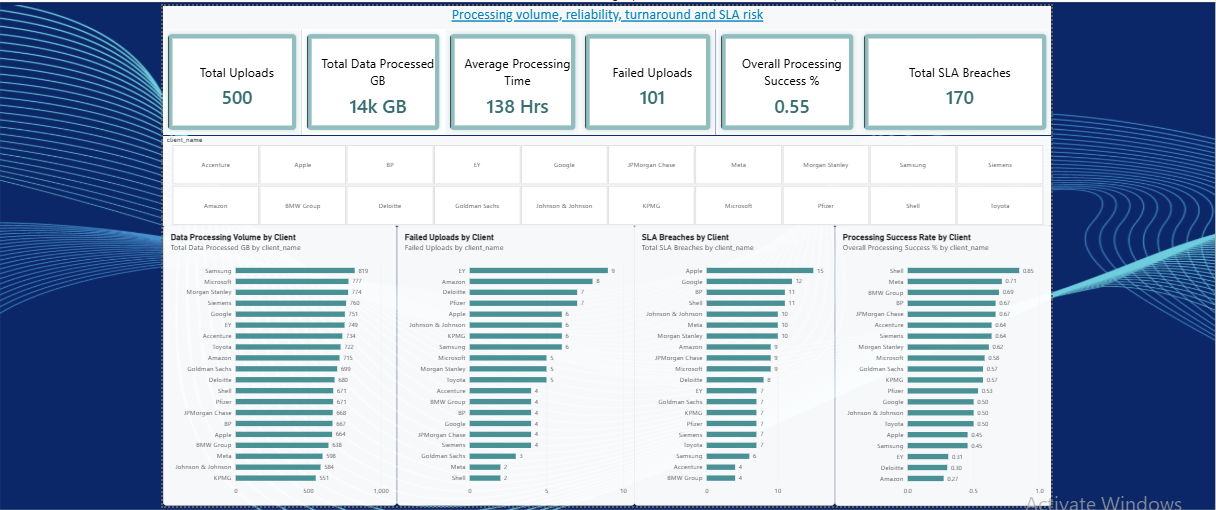

This screenshot's page, from the dashboard's own definition file:
{"tool":"powerbi","page":{"name":"Operations & Processing","canvas":[1920,1080],"ordinal":2},"visuals":[{"type":"cardVisual","fields":{"Data":["Processing Performance.Total Uploads"]},"box":[0,50.7,299.8,229.3],"z":0},{"type":"cardVisual","fields":{"Data":["Processing Performance.Total Data Processed GB"]},"box":[299.8,50.7,308.6,229.3],"z":1000},{"type":"cardVisual","fields":{"Data":["Processing Performance.Average Processing Time"]},"box":[608.4,50.7,293.2,229.3],"z":2000},{"type":"cardVisual","fields":{"Data":["Processing Performance.Failed Uploads"]},"box":[901.6,50.7,293.2,229.3],"z":3000},{"type":"cardVisual","fields":{"Data":["Processing Performance.Overall Processing Success %"]},"box":[1194.8,50.7,308.6,229.3],"z":4000},{"type":"cardVisual","fields":{"Data":["SLA Performance.Total SLA Breaches"]},"box":[1503.4,50.7,416.6,229.3],"z":5000},{"type":"clusteredBarChart","title":"Data Processing Volume by Client","fields":{"Category":["Processing Performance.client_name"],"Y":["Processing Performance.Total Data Processed GB"]},"box":[0,473.9,504.8,606.2],"z":6000},{"type":"clusteredBarChart","title":"Failed Uploads by Client","fields":{"Category":["Processing Performance.client_name"],"Y":["Processing Performance.Failed Uploads"]},"box":[504.8,473.9,513.6,606.2],"z":7000},{"type":"clusteredBarChart","title":"SLA Breaches by Client","fields":{"Category":["SLA Performance.client_name"],"Y":["SLA Performance.Total SLA Breaches"]},"box":[1018.4,473.9,434.3,606.2],"z":8000},{"type":"slicer","fields":{"Values":["Case Summary.client_name"]},"box":[0,280.8,1920.2,194.4],"z":9000},{"type":"clusteredBarChart","title":"Processing Success Rate by Client","fields":{"Category":["Processing Performance.client_name"],"Y":["Processing Performance.Overall Processing Success %"]},"box":[1451.5,473,468.7,607],"z":10000},{"type":"textbox","title":"Processing volume, reliability, turnaround and SLA risk","box":[0,0,1920,50.7],"z":10001}]}

Visuals, with their boxes on the page's 1920x1080 design canvas (x1, y1, x2, y2). These are canvas units, not pixel positions in the 1216x510 screenshot, which may show the page scaled, cropped or inside an application window:
cardVisual - Processing Performance.Total Uploads: bbox=(0, 51, 300, 280)
cardVisual - Processing Performance.Total Data Processed GB: bbox=(300, 51, 608, 280)
cardVisual - Processing Performance.Average Processing Time: bbox=(608, 51, 902, 280)
cardVisual - Processing Performance.Failed Uploads: bbox=(902, 51, 1195, 280)
cardVisual - Processing Performance.Overall Processing Success %: bbox=(1195, 51, 1503, 280)
cardVisual - SLA Performance.Total SLA Breaches: bbox=(1503, 51, 1920, 280)
"Data Processing Volume by Client" clusteredBarChart: bbox=(0, 474, 505, 1080)
"Failed Uploads by Client" clusteredBarChart: bbox=(505, 474, 1018, 1080)
"SLA Breaches by Client" clusteredBarChart: bbox=(1018, 474, 1453, 1080)
slicer - Case Summary.client_name: bbox=(0, 281, 1920, 475)
"Processing Success Rate by Client" clusteredBarChart: bbox=(1452, 473, 1920, 1080)
"Processing volume, reliability, turnaround and SLA risk" textbox: bbox=(0, 0, 1920, 51)
